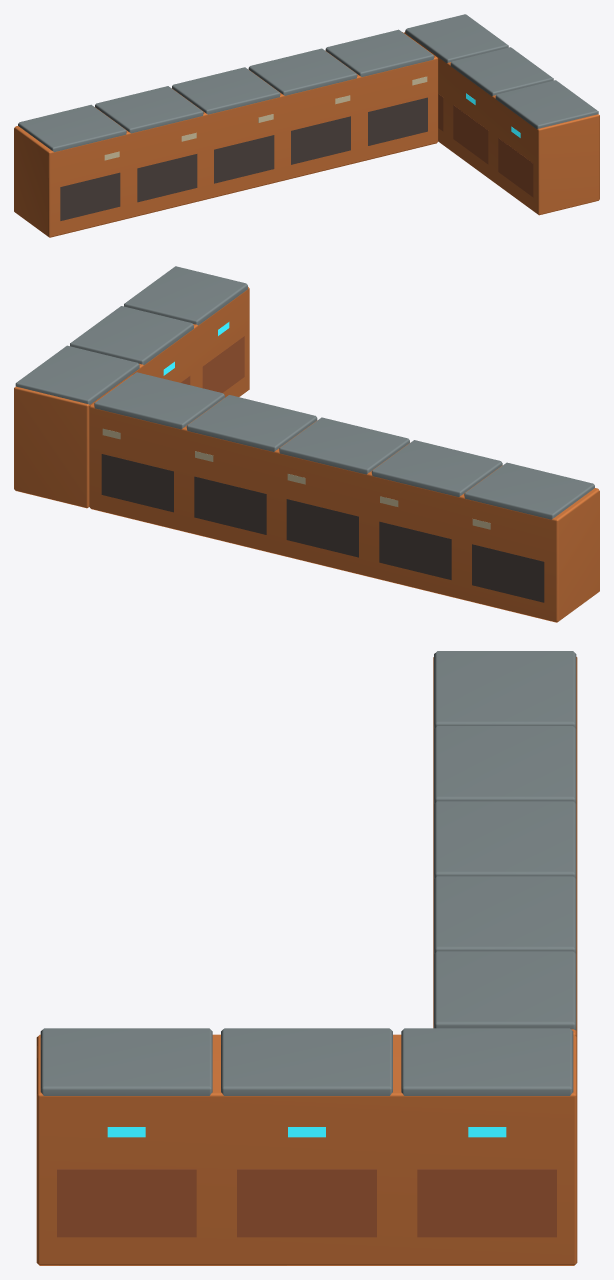
Rendered from e6-low-cover-return.glb.
The picture shows the model from 3 angles, top to bottom: view 1: azimuth 30°, elevation 25°; view 2: azimuth 150°, elevation 25°; view 3: azimuth 270°, elevation 25°; orthographic projection. The views are drawn at different scales.
Visible parts, largest first — view 1: e6-low-cover-return | Low barrier warm orange, e6-low-cover-return | Machined kick plates, e6-low-cover-return | Low barrier undercut shadow, e6-low-cover-return | Band 6 old oxide red, e6-low-cover-return | Pale stencilled dots; view 2: e6-low-cover-return | Low barrier warm orange, e6-low-cover-return | Machined kick plates, e6-low-cover-return | Low barrier undercut shadow, e6-low-cover-return | Band 6 old oxide red, e6-low-cover-return | Pale stencilled dots; view 3: e6-low-cover-return | Machined kick plates, e6-low-cover-return | Low barrier warm orange, e6-low-cover-return | Band 6 old oxide red, e6-low-cover-return | Blue glass indicators.
Part boxes in pixels (box(x1,y1,x2,y2)): e6-low-cover-return | Low barrier warm orange: box(14, 31, 599, 237); e6-low-cover-return | Machined kick plates: box(18, 14, 598, 152); e6-low-cover-return | Low barrier undercut shadow: box(60, 97, 427, 220); e6-low-cover-return | Band 6 old oxide red: box(438, 94, 533, 197); e6-low-cover-return | Pale stencilled dots: box(104, 76, 427, 160); e6-low-cover-return | Low barrier warm orange: box(14, 287, 599, 622); e6-low-cover-return | Machined kick plates: box(15, 266, 594, 519); e6-low-cover-return | Low barrier undercut shadow: box(101, 454, 544, 602); e6-low-cover-return | Band 6 old oxide red: box(180, 336, 244, 392); e6-low-cover-return | Pale stencilled dots: box(102, 428, 490, 529); e6-low-cover-return | Machined kick plates: box(40, 651, 576, 1095); e6-low-cover-return | Low barrier warm orange: box(36, 657, 577, 1265); e6-low-cover-return | Band 6 old oxide red: box(57, 1169, 556, 1237); e6-low-cover-return | Blue glass indicators: box(107, 1127, 506, 1137).
Bounding box in the file's own units: 5.8 × 1.1 × 3.
